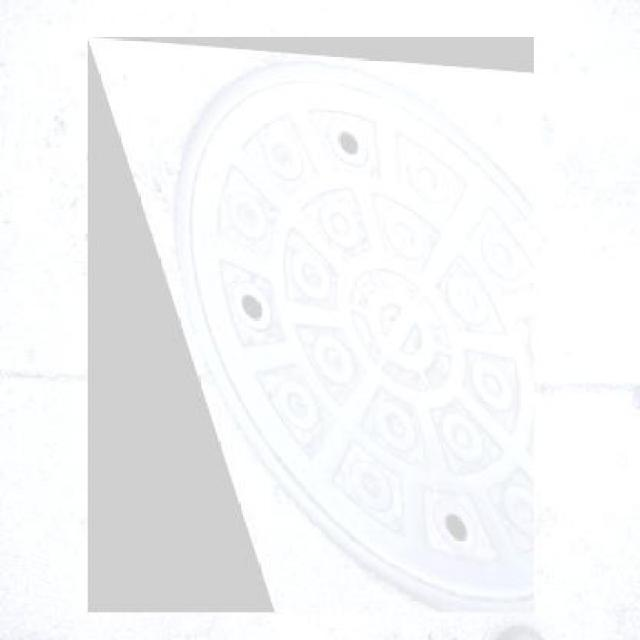Manhole: (88, 37, 534, 612)
